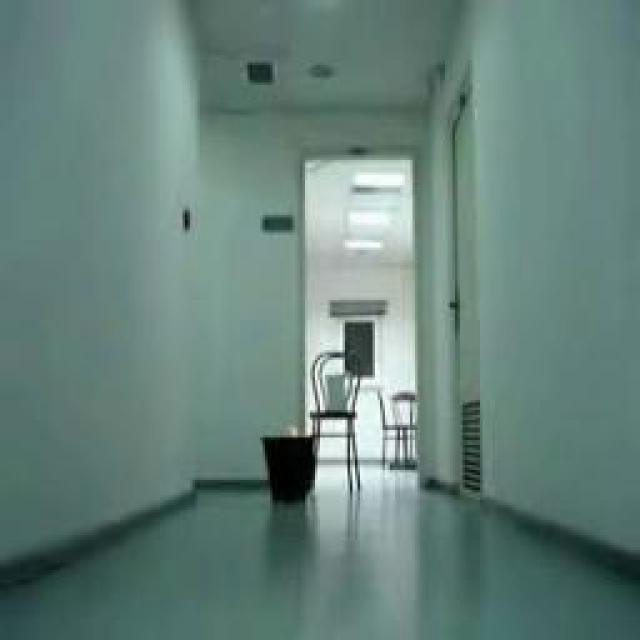Fire: (280, 424, 301, 434)
